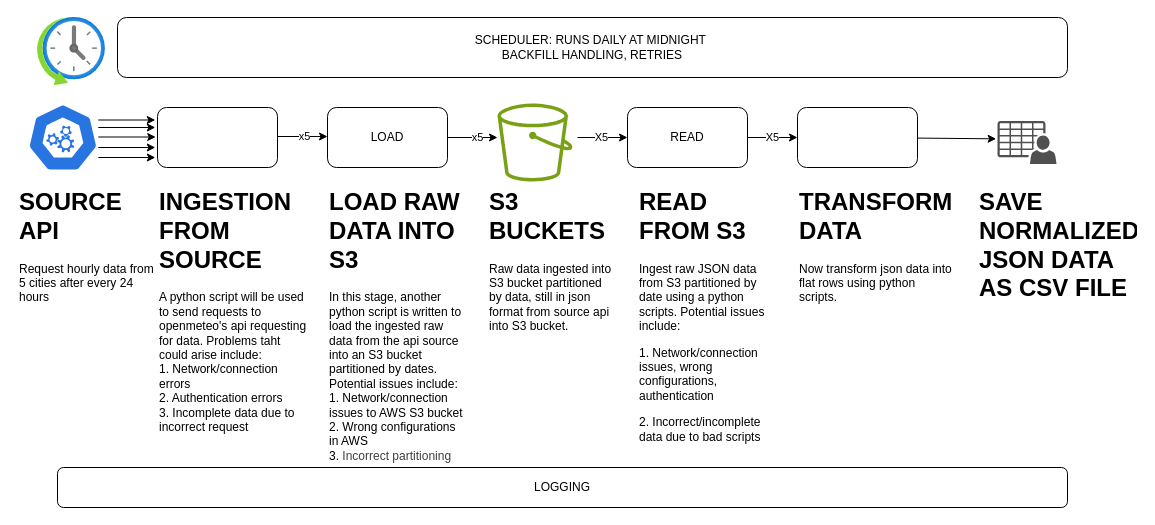
This 1155x525 diagram has some shape labels left out. The shapes that lost their labels are listed below. From the top down, each one's centre as x and y in pixels, then its label:
the point at 217,137: INGESTION
the point at 857,137: TRANSFORM
